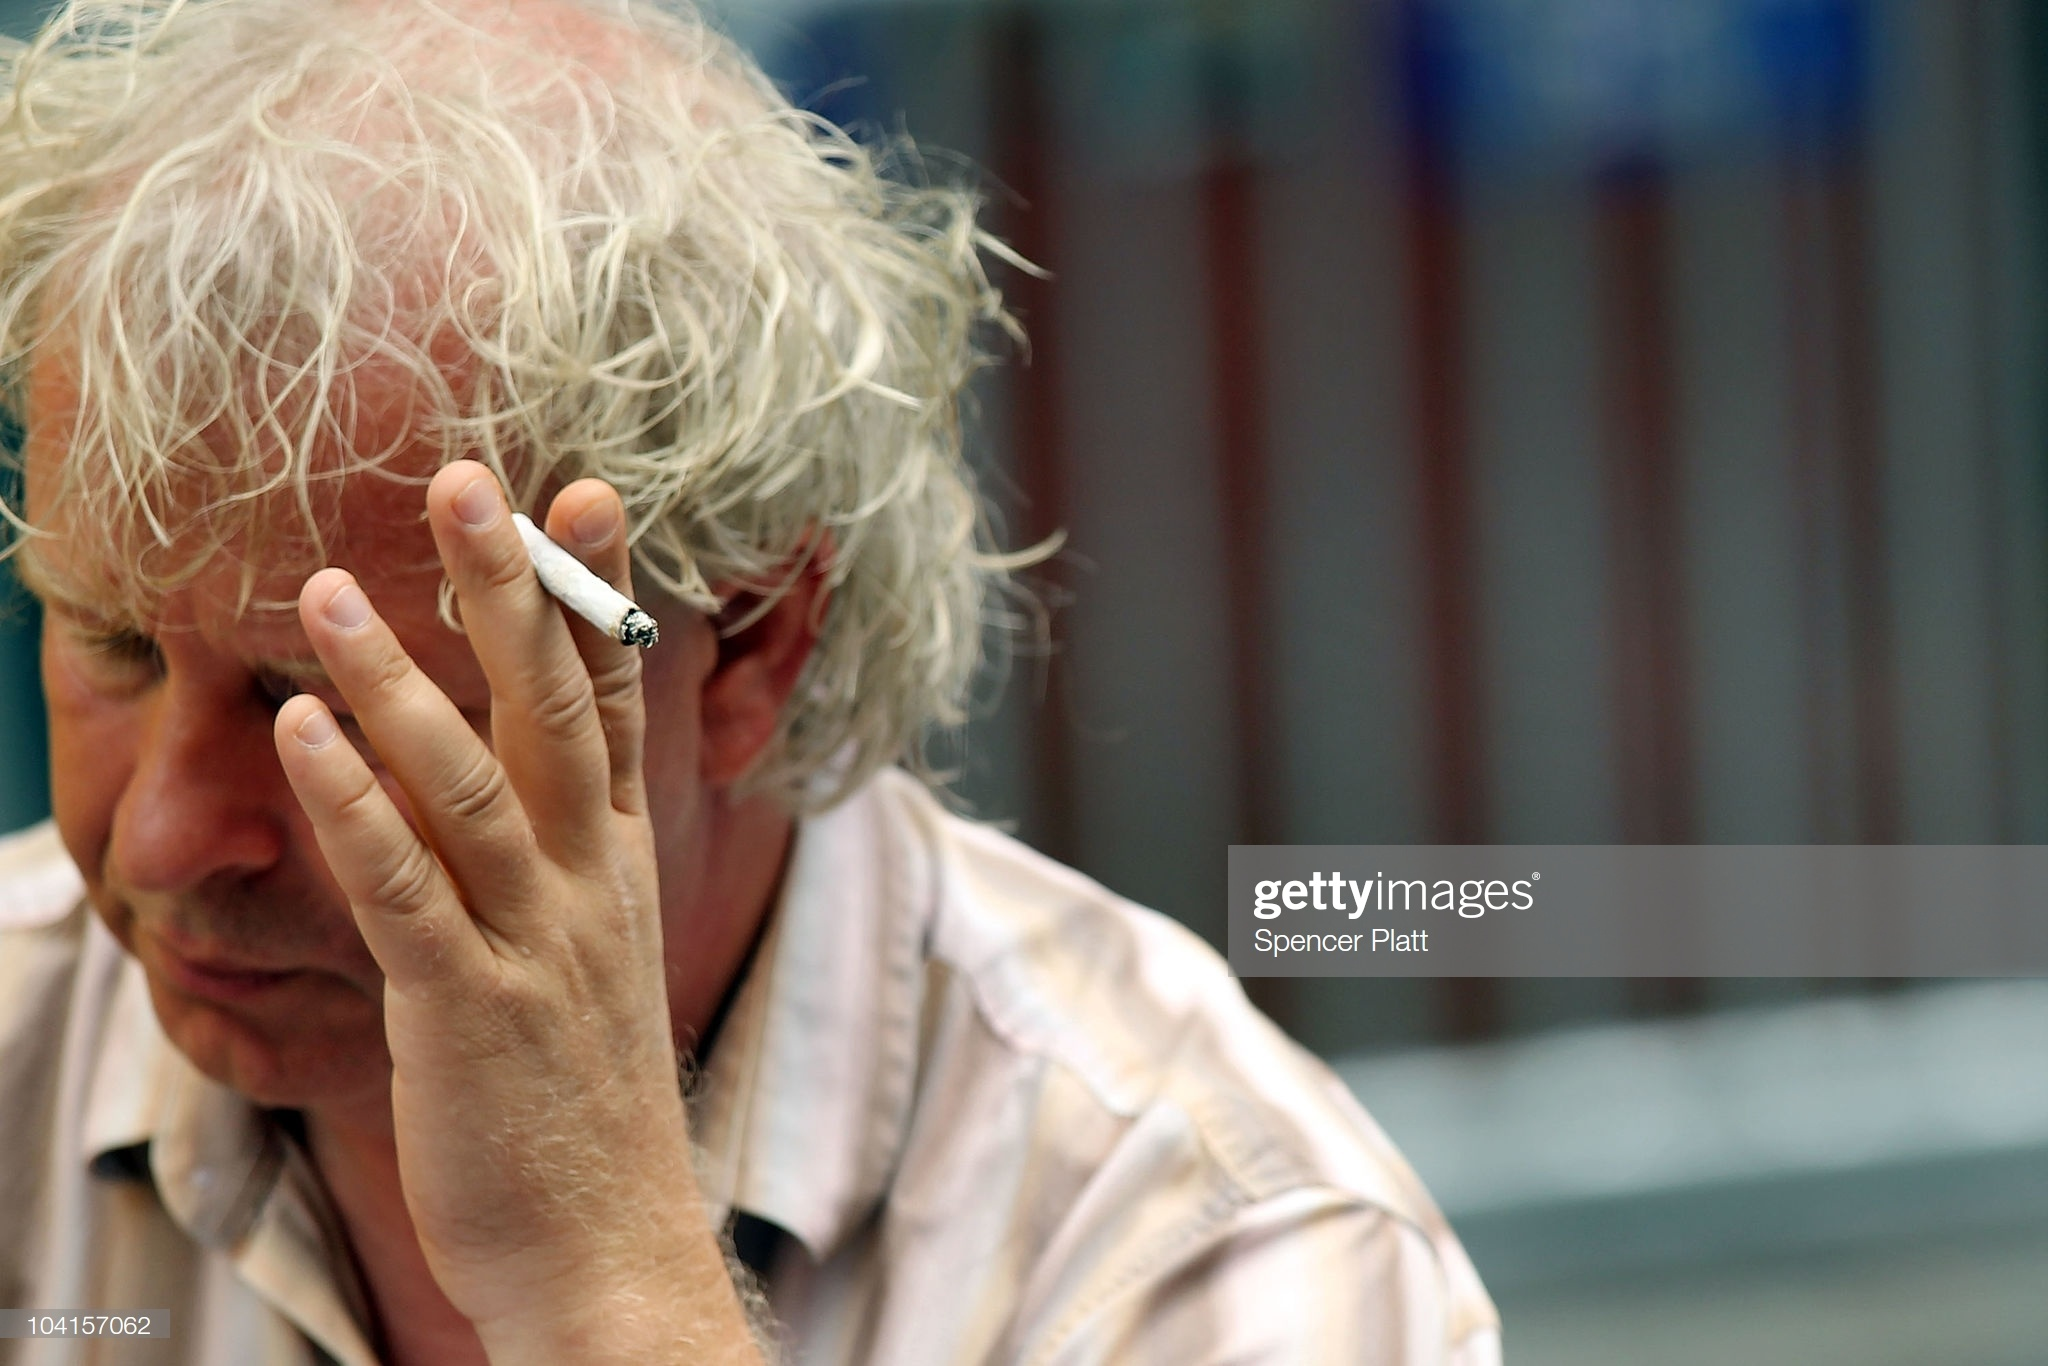sigaretta: (453, 492, 664, 668)
